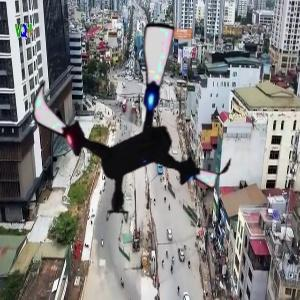drone: (28, 15, 242, 229)
